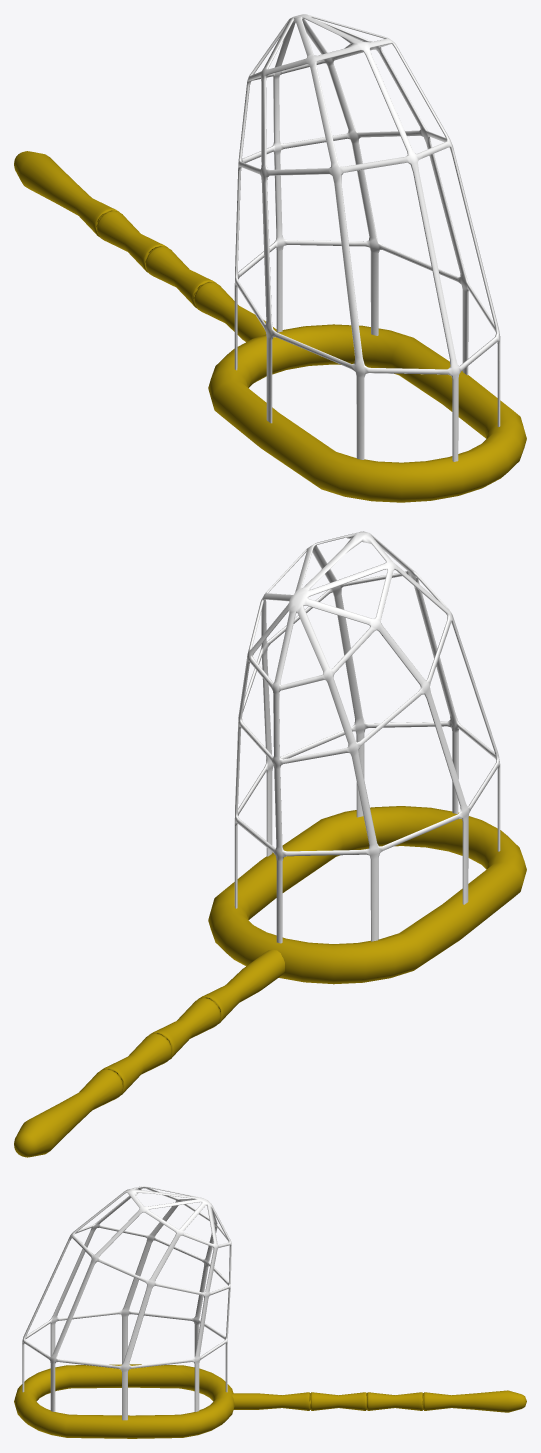
File: net01.glb
3 renders of one model, top to bottom at view 1: azimuth 30°, elevation 25°; view 2: azimuth 150°, elevation 25°; view 3: azimuth 270°, elevation 25°, orthographic. The views are drawn at different scales.
Parts seen in each view (by area): view 1: Jelly Fish Net; view 2: Jelly Fish Net; view 3: Jelly Fish Net.
Part boxes in pixels (x1,y1,x2,y2): Jelly Fish Net: (14, 14, 526, 502); Jelly Fish Net: (14, 531, 526, 1157); Jelly Fish Net: (14, 1186, 526, 1438).
Bounding box in the file's own units: 4.71 × 8 × 16.72.
